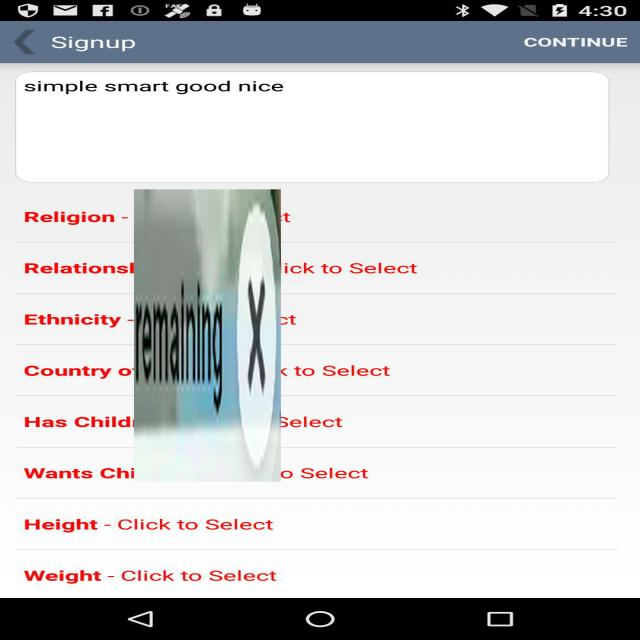misdirection: (134, 189, 281, 482)
